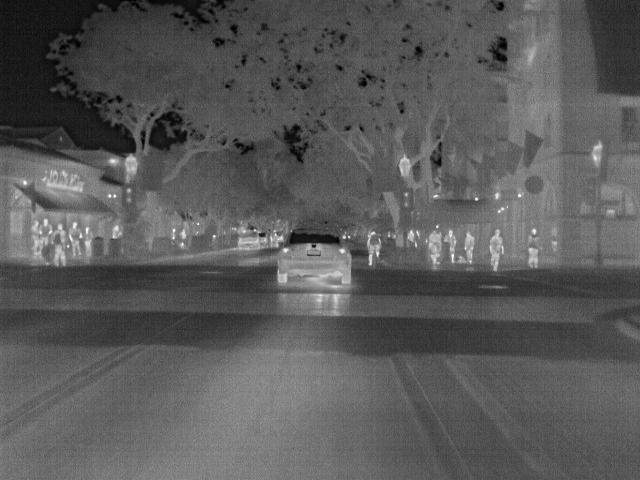car: (274, 227, 353, 286), (235, 228, 264, 249)
person: (49, 223, 69, 267), (485, 227, 505, 269), (524, 225, 543, 267), (65, 220, 83, 256), (366, 231, 384, 265), (442, 228, 459, 262), (428, 227, 443, 262), (462, 228, 477, 262), (36, 218, 52, 248), (30, 218, 42, 254), (81, 225, 94, 256)
